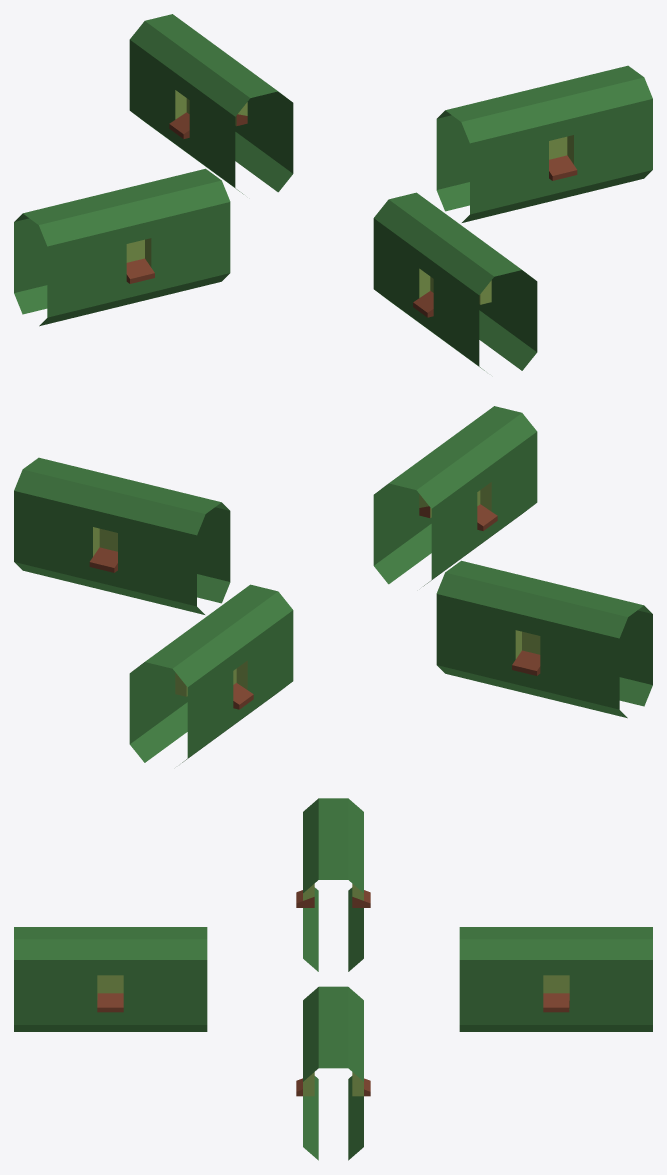
File: Apartment_Corridors.fbx
3 views of the same model, one above another, from view 1: azimuth 30°, elevation 25°; view 2: azimuth 150°, elevation 25°; view 3: azimuth 270°, elevation 25° (orthographic). The views are drawn at different scales.
Parts seen in each view (by area): view 1: Apartment_Corridors; view 2: Apartment_Corridors; view 3: Apartment_Corridors.
Part boxes in pixels (<box>): Apartment_Corridors: <box>14,14,652,370</box>; Apartment_Corridors: <box>14,406,652,762</box>; Apartment_Corridors: <box>14,798,652,1160</box>.
Bounding box in the file's own units: 129 × 20.6 × 129.
